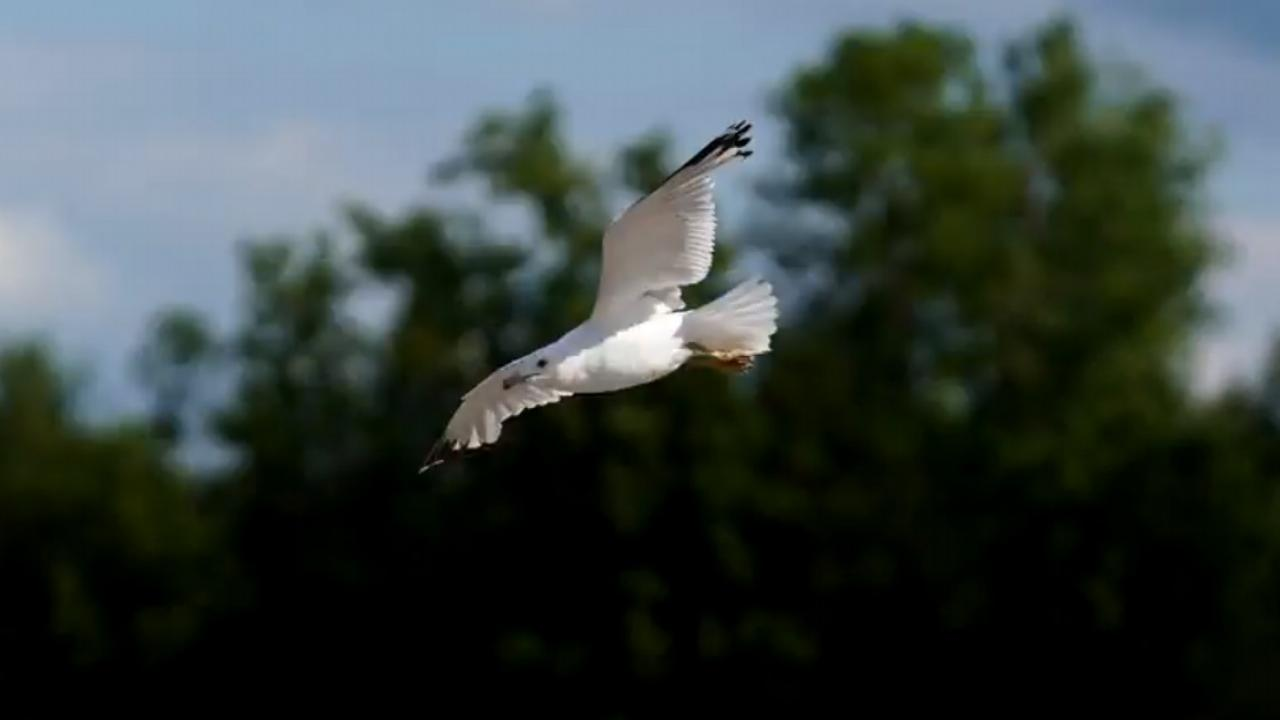Bird: (403, 104, 790, 487)
